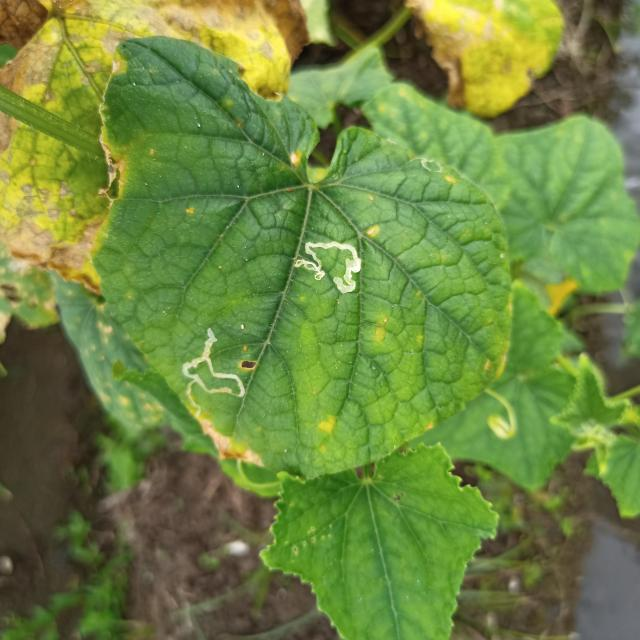disease_cucumber: (484, 351, 518, 376), (314, 415, 341, 440), (370, 316, 390, 343), (288, 146, 304, 170), (365, 222, 379, 240), (184, 203, 199, 217), (446, 173, 456, 186)
